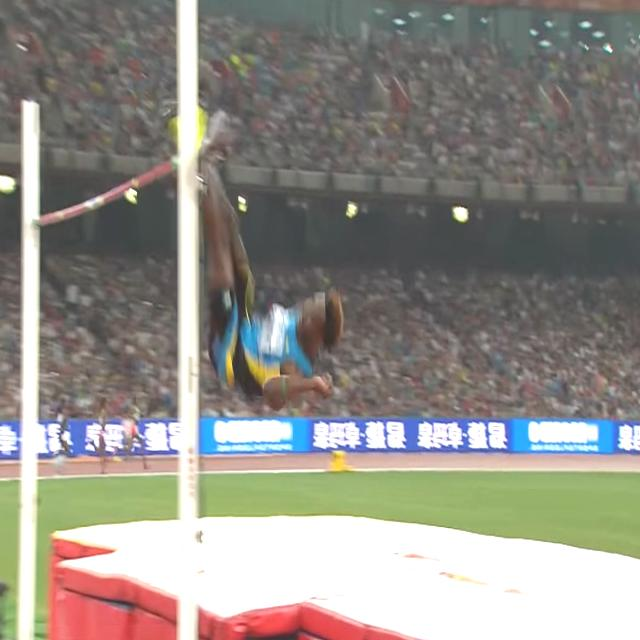land: (159, 85, 342, 410)
